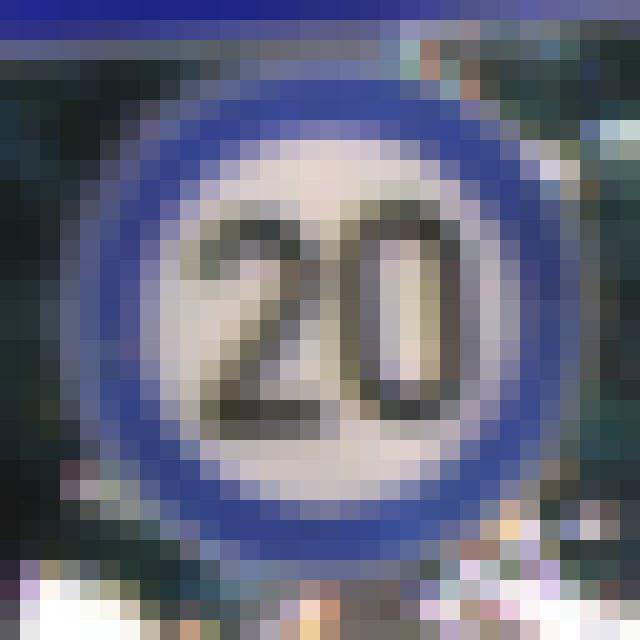SPEED LIMIT 20: (75, 85, 581, 547)
